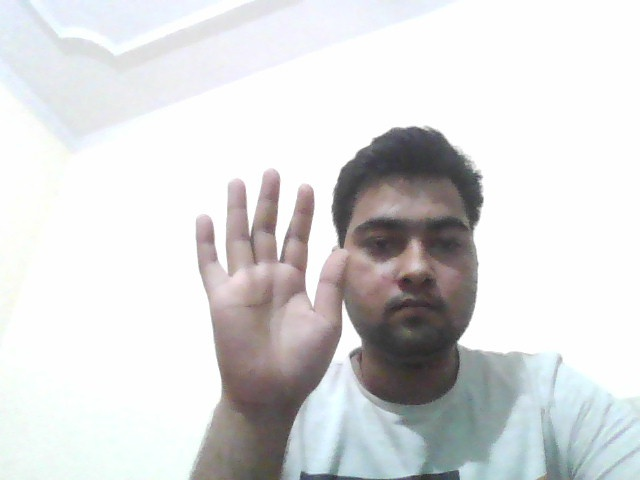Hello: (193, 162, 354, 407)
